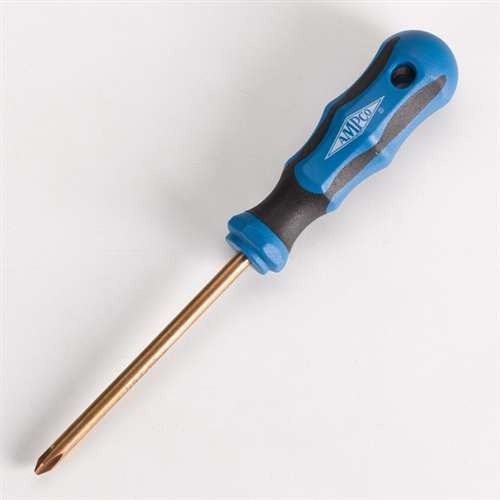screwdriver: (30, 22, 458, 482)
